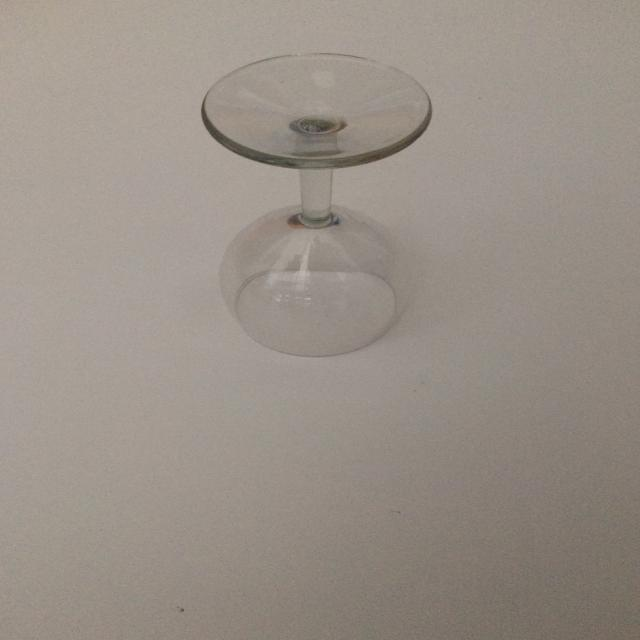glass: (200, 52, 434, 357)
